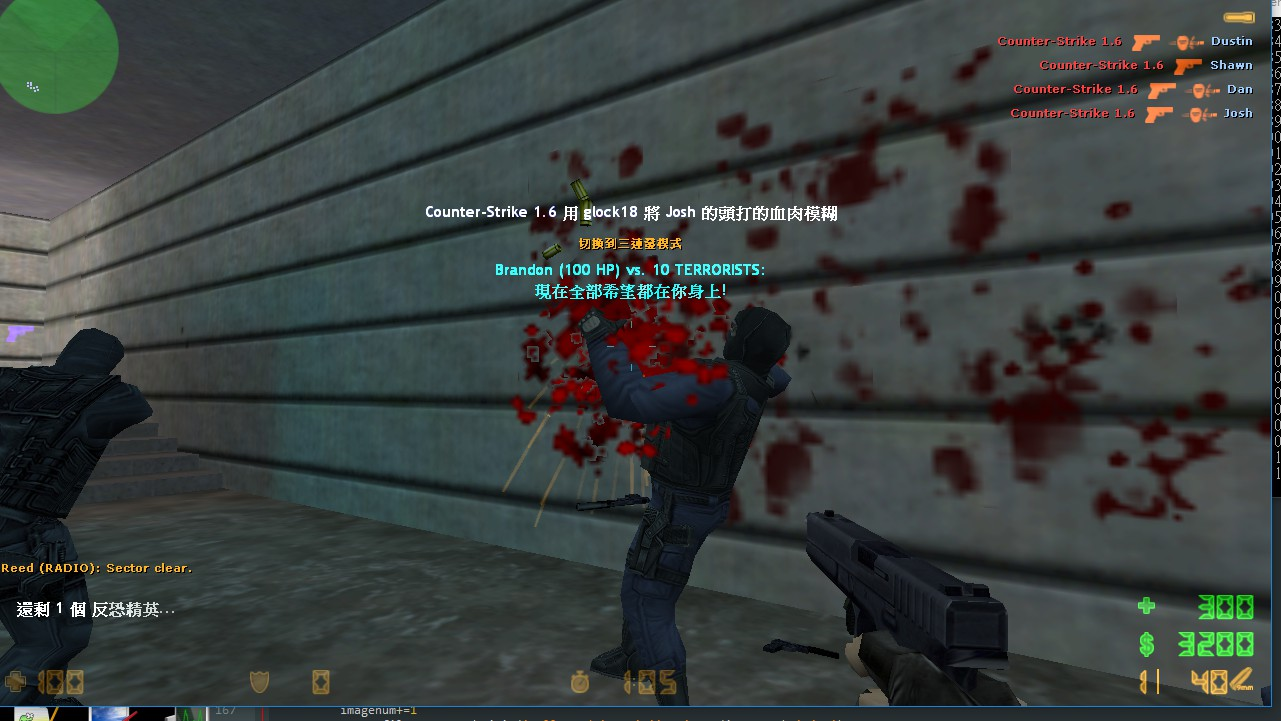person: (565, 298, 818, 707), (1, 330, 176, 702)
